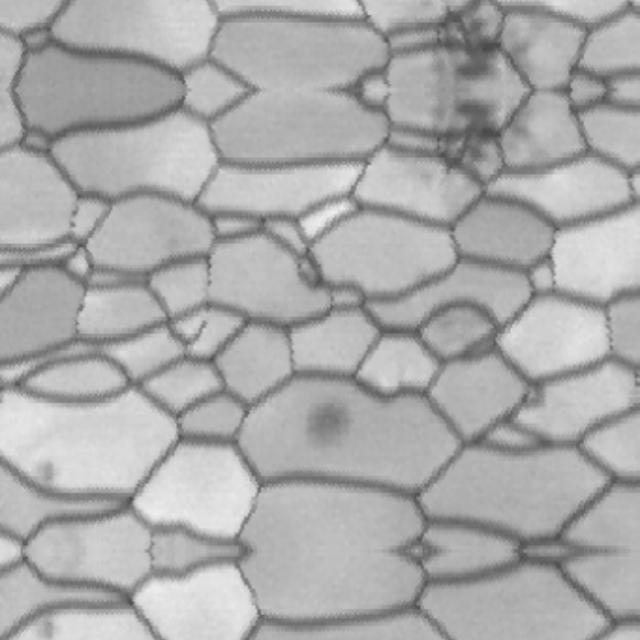good_void: (414, 89, 520, 203), (414, 0, 520, 89), (288, 387, 368, 462), (28, 449, 61, 485), (29, 617, 61, 640)
